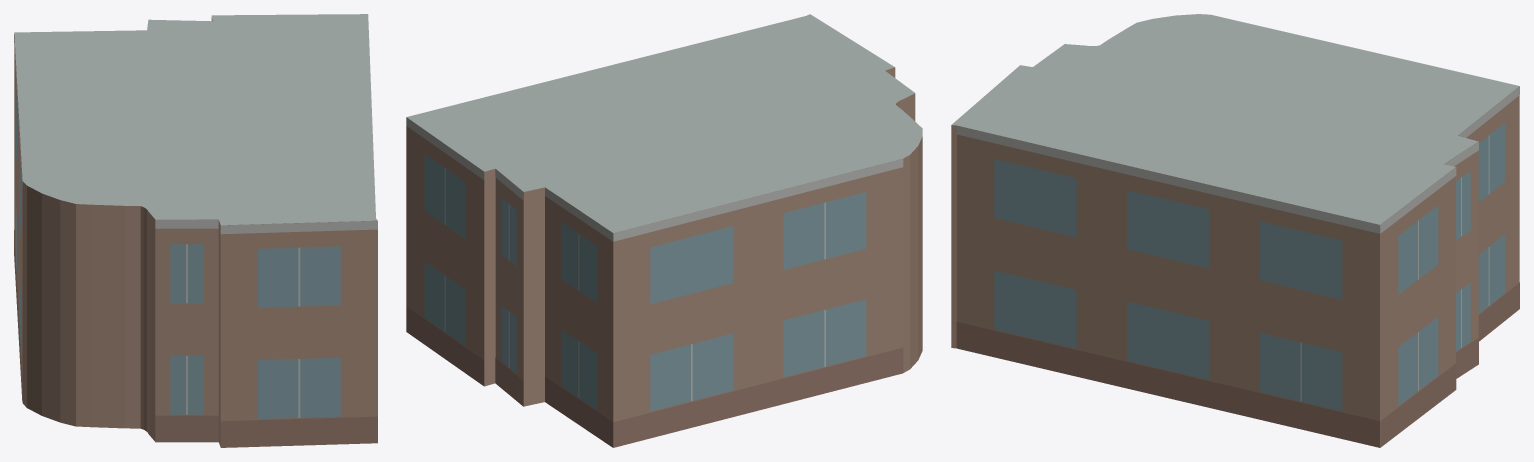
Rendered from survey-upis-32722337.glb.
3 renders of one model, left to right at view 1: azimuth 30°, elevation 25°; view 2: azimuth 150°, elevation 25°; view 3: azimuth 270°, elevation 25°, orthographic. The views are drawn at different scales.
Parts seen in each view (by area): view 1: survey-upis-32722337.tmp; view 2: survey-upis-32722337.tmp; view 3: survey-upis-32722337.tmp.
Part boxes in pixels (box(x1,y1,x2,y2)): survey-upis-32722337.tmp: box(14, 14, 377, 447); survey-upis-32722337.tmp: box(406, 14, 922, 447); survey-upis-32722337.tmp: box(951, 14, 1519, 447).
Bounding box in the file's own units: 12.39 × 6.1 × 14.11.
